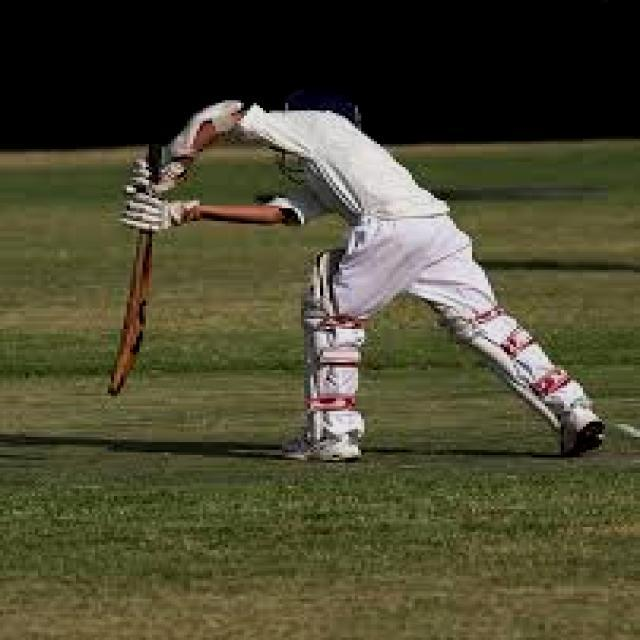bat: (92, 230, 153, 402)
toe: (95, 381, 132, 400)
